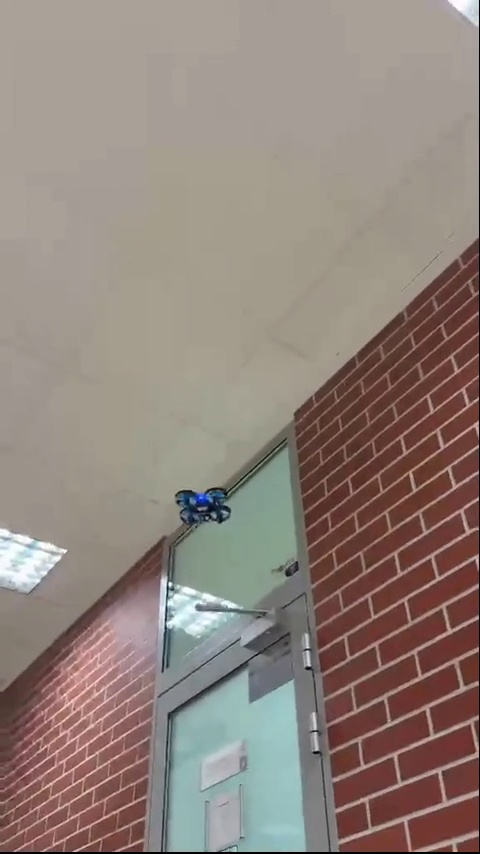drone: (174, 491, 227, 523)
